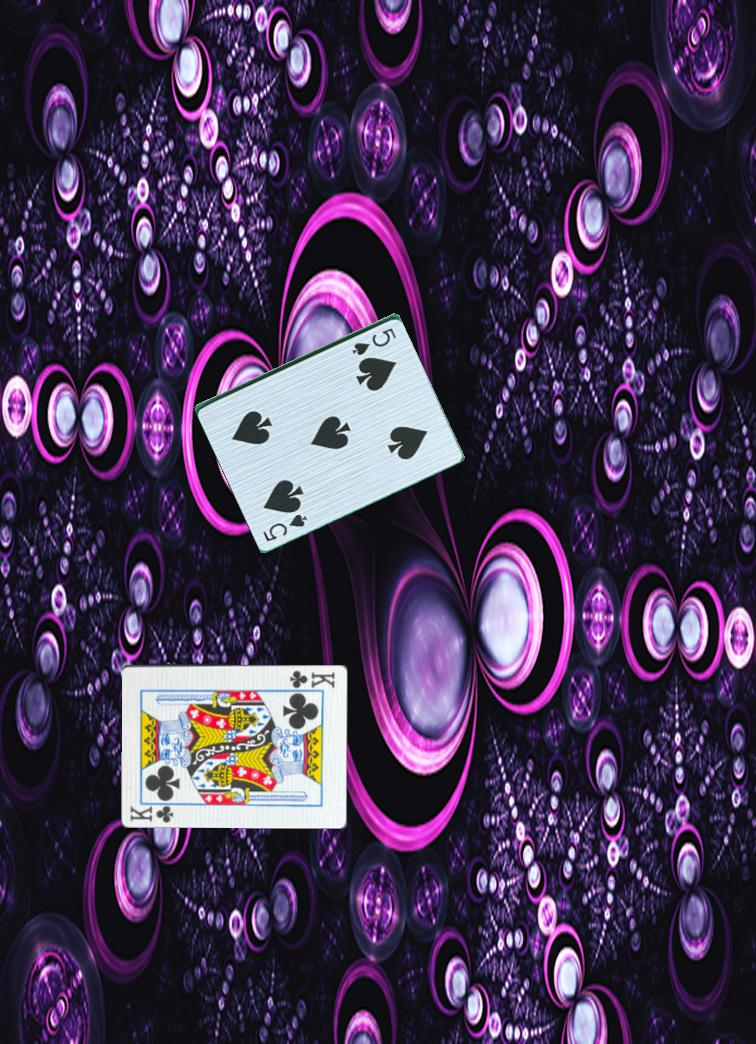5s: (255, 505, 310, 544), (349, 321, 400, 357)
kc: (286, 665, 338, 690), (127, 802, 176, 825)
